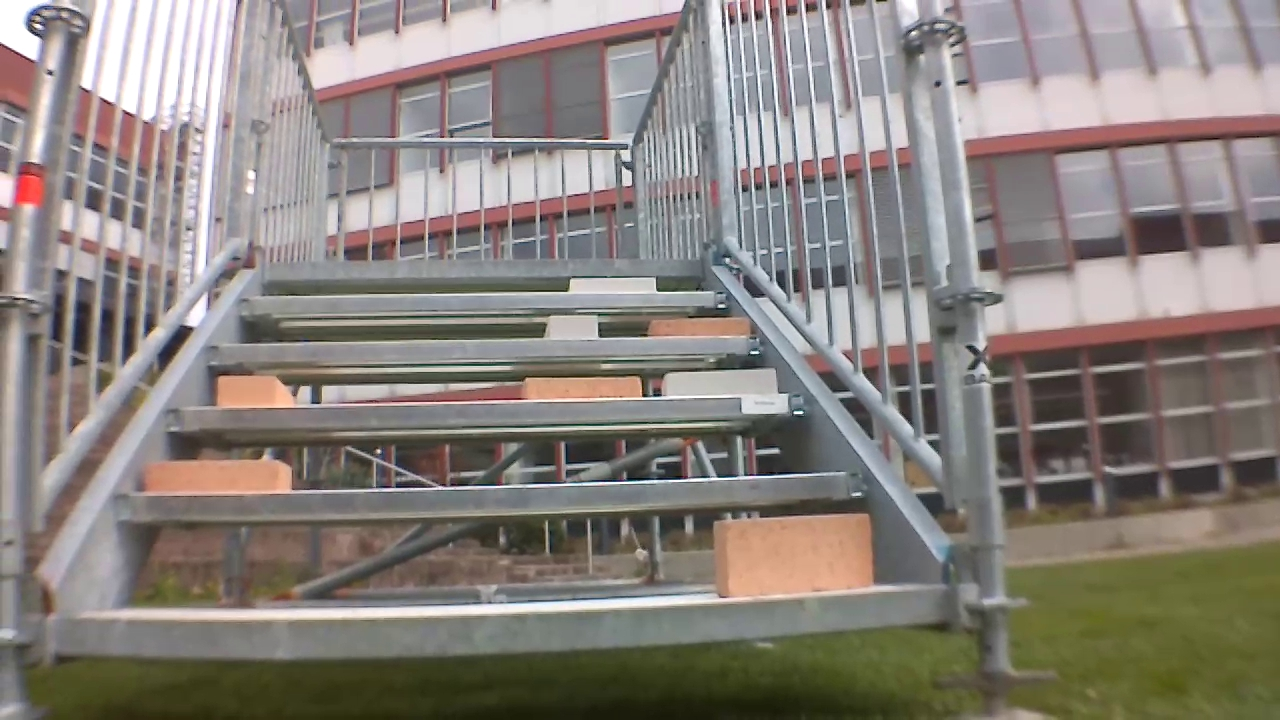brick: (703, 510, 876, 600), (134, 459, 288, 497), (662, 364, 778, 396), (518, 375, 641, 401), (211, 379, 296, 411), (652, 317, 753, 336), (565, 272, 659, 292), (542, 314, 599, 341)
edge: (48, 584, 958, 657), (111, 464, 871, 523), (167, 387, 811, 436), (208, 335, 766, 366), (231, 292, 734, 324), (258, 257, 716, 283)
stairs: (0, 0, 1002, 715)
steps: (37, 254, 1004, 667)
